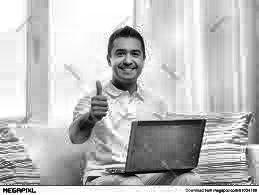happy: (102, 31, 159, 84)
